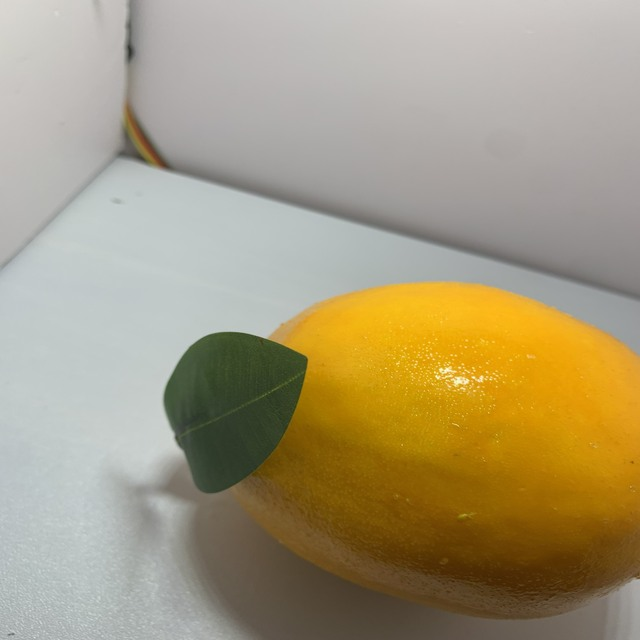Cam vang: (198, 273, 640, 627)
